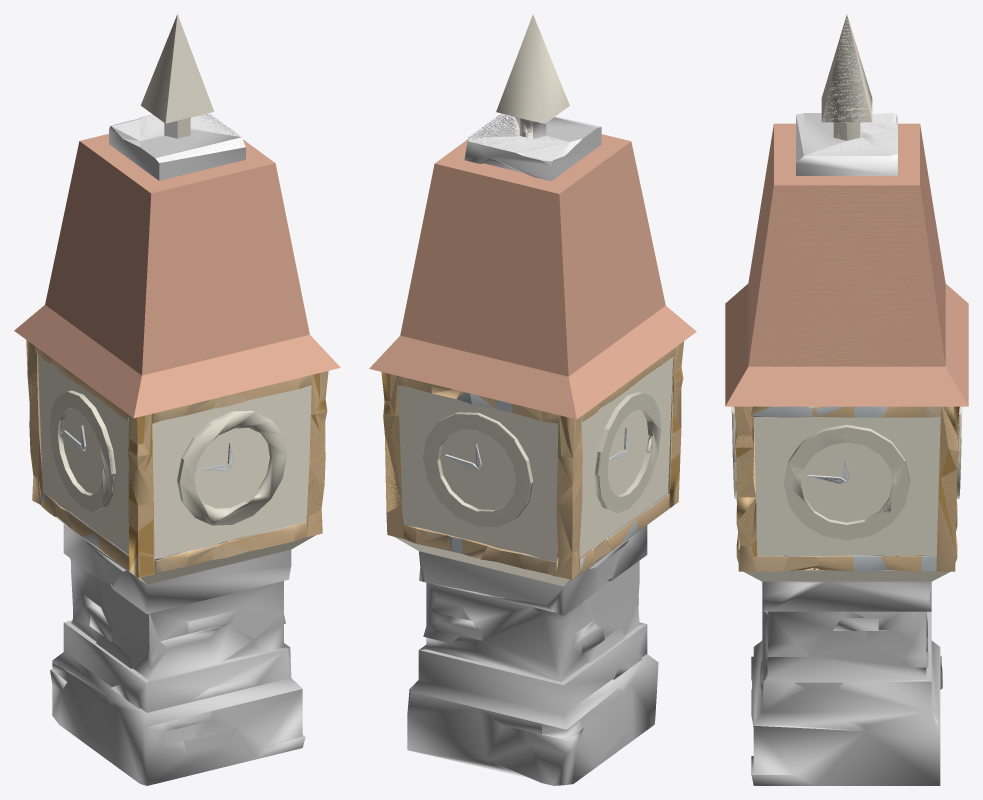
File: TownHall.fbx
The picture shows the model from 3 angles, left to right: view 1: azimuth 30°, elevation 25°; view 2: azimuth 150°, elevation 25°; view 3: azimuth 270°, elevation 25°; orthographic projection.
Parts seen in each view (by area): view 1: Group5, Group3, Group20, Group2, Group17, Ugol_Ratusha1, Group18, Ugol_Ratusha2_1, StolbRatusha4_1, Ugol_Ratusha3_1, StolbRatusha4_2, Stolb_Ratusha1 (+1 smaller); view 2: Group5, Group3, Group20, Group2, Group16, Ugol_Ratusha3_1, Group18, Ugol_Ratusha4_1, StolbRatusha3_1, Ugol_Ratusha1, StolbRatusha3_2, Stolb_Ratusha1 (+1 smaller); view 3: Group5, Group3, Group20, Group2, Group19, Ugol_Ratusha4_1, Ugol_Ratusha2_1, StolbRatusha2_1, StolbRatusha2_2.
Part boxes in pixels (x1,y1,x2,y2): Group5: (14,134,340,418); Group3: (50,524,305,785); Group20: (38,355,315,584); Group2: (109,14,245,180); Group17: (177,410,287,525); Ugol_Ratusha1: (128,414,154,578); Group18: (49,390,115,511); Ugol_Ratusha2_1: (306,371,328,537); StolbRatusha4_1: (154,523,307,574); Ugol_Ratusha3_1: (26,340,42,504); StolbRatusha4_2: (152,375,312,423); Stolb_Ratusha1: (41,492,129,571); Group5: (369,134,696,419); Group3: (407,525,658,785); Group20: (394,356,673,586); Group2: (464,14,601,181); Group16: (423,412,533,527); Ugol_Ratusha3_1: (556,415,582,579); Group18: (594,391,661,513); Ugol_Ratusha4_1: (381,372,403,538); StolbRatusha3_1: (403,525,556,576); Ugol_Ratusha1: (668,341,684,508); StolbRatusha3_2: (397,376,558,423); Stolb_Ratusha1: (579,493,669,572); Group5: (725,123,968,406); Group3: (751,581,942,785); Group20: (743,407,950,581); Group2: (796,15,897,175); Group19: (784,424,909,539); Ugol_Ratusha4_1: (936,406,959,571); Ugol_Ratusha2_1: (734,406,757,571); StolbRatusha2_1: (754,555,936,571); StolbRatusha2_2: (750,406,940,417).
Size of the model in its own units: 2200 by 7300 by 2200.
